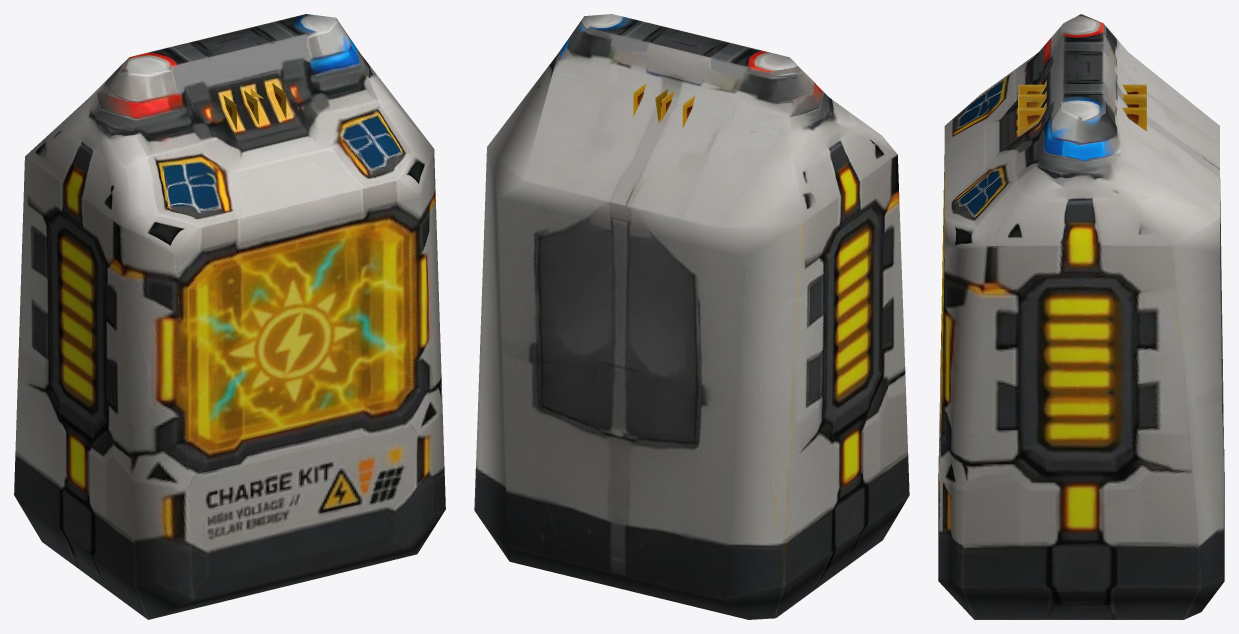
File: kit-charge.glb
The picture shows the model from 3 angles, left to right: view 1: azimuth 30°, elevation 25°; view 2: azimuth 150°, elevation 25°; view 3: azimuth 270°, elevation 25°; orthographic projection. The views are drawn at different scales.
Visible parts, largest first — view 1: geometry_0; view 2: geometry_0; view 3: geometry_0.
Boxes of the visible parts, x1,y1,x2,y2 form: geometry_0: (14, 14, 445, 619); geometry_0: (474, 14, 909, 619); geometry_0: (938, 14, 1224, 619).
Size of the model in its own units: 0.6216 by 0.9497 by 0.5015.
1 material, 1 textured.
